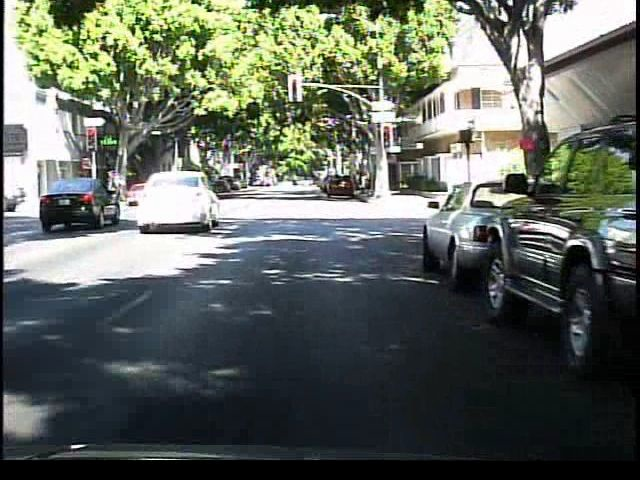person: (106, 163, 132, 204)
